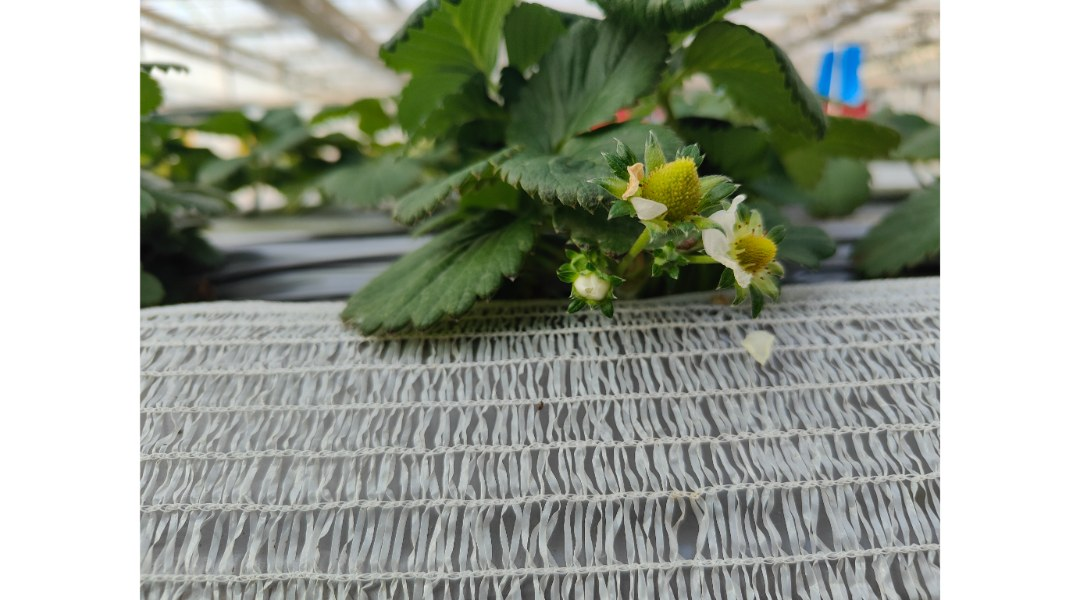berry: (633, 132, 711, 246), (707, 205, 794, 286), (559, 251, 632, 327)
